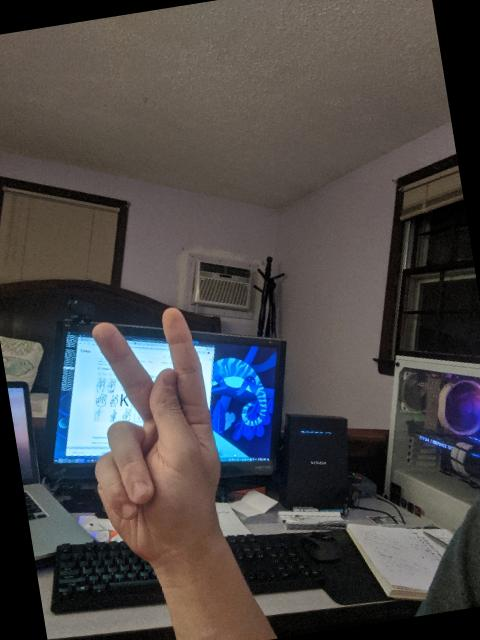K: (64, 296, 244, 578)
